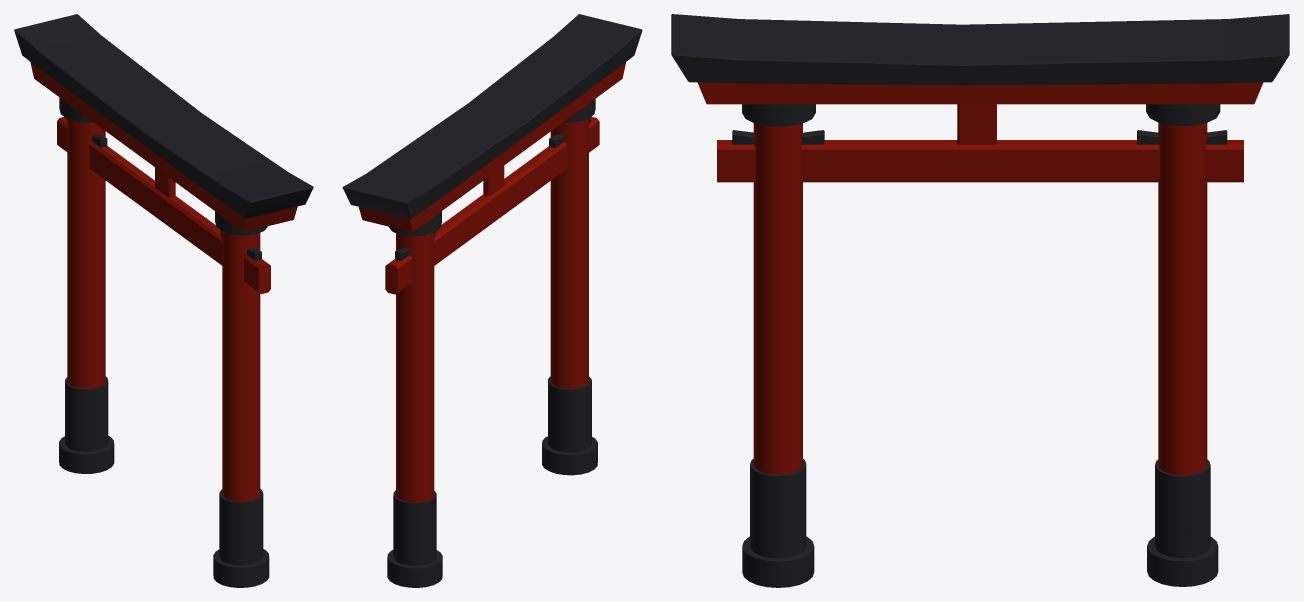
File: arch6.fbx
3 views of the same model, side by side, from view 1: azimuth 30°, elevation 25°; view 2: azimuth 150°, elevation 25°; view 3: azimuth 270°, elevation 25° (orthographic). The views are drawn at different scales.
Parts seen in each view (by area): view 1: arch6; view 2: arch6; view 3: arch6.
Part boxes in pixels (x1,y1,x2,y2): arch6: [14, 14, 313, 587]; arch6: [342, 14, 642, 587]; arch6: [671, 14, 1289, 587].
Bounding box in the file's own units: 185 × 1134 × 1181.
